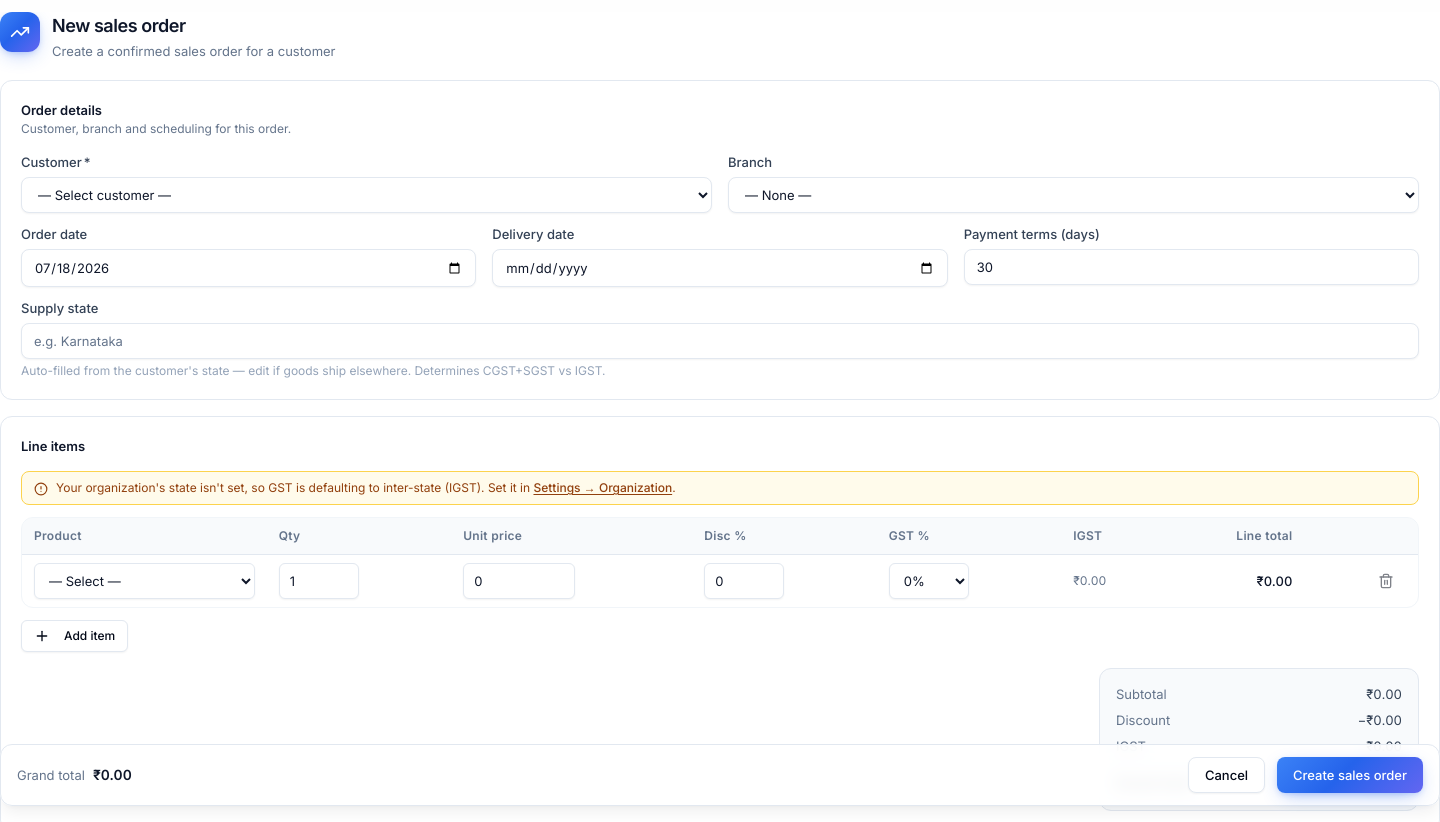
Test: SalesOrderForm › pre-fills price/GST and updates the grand total when a product is chosen (inter-state, IGST)
Select "Widget" in the dropdown named "Product for line 1". click: (144, 580)
box: left=34, top=562, right=255, bottom=598
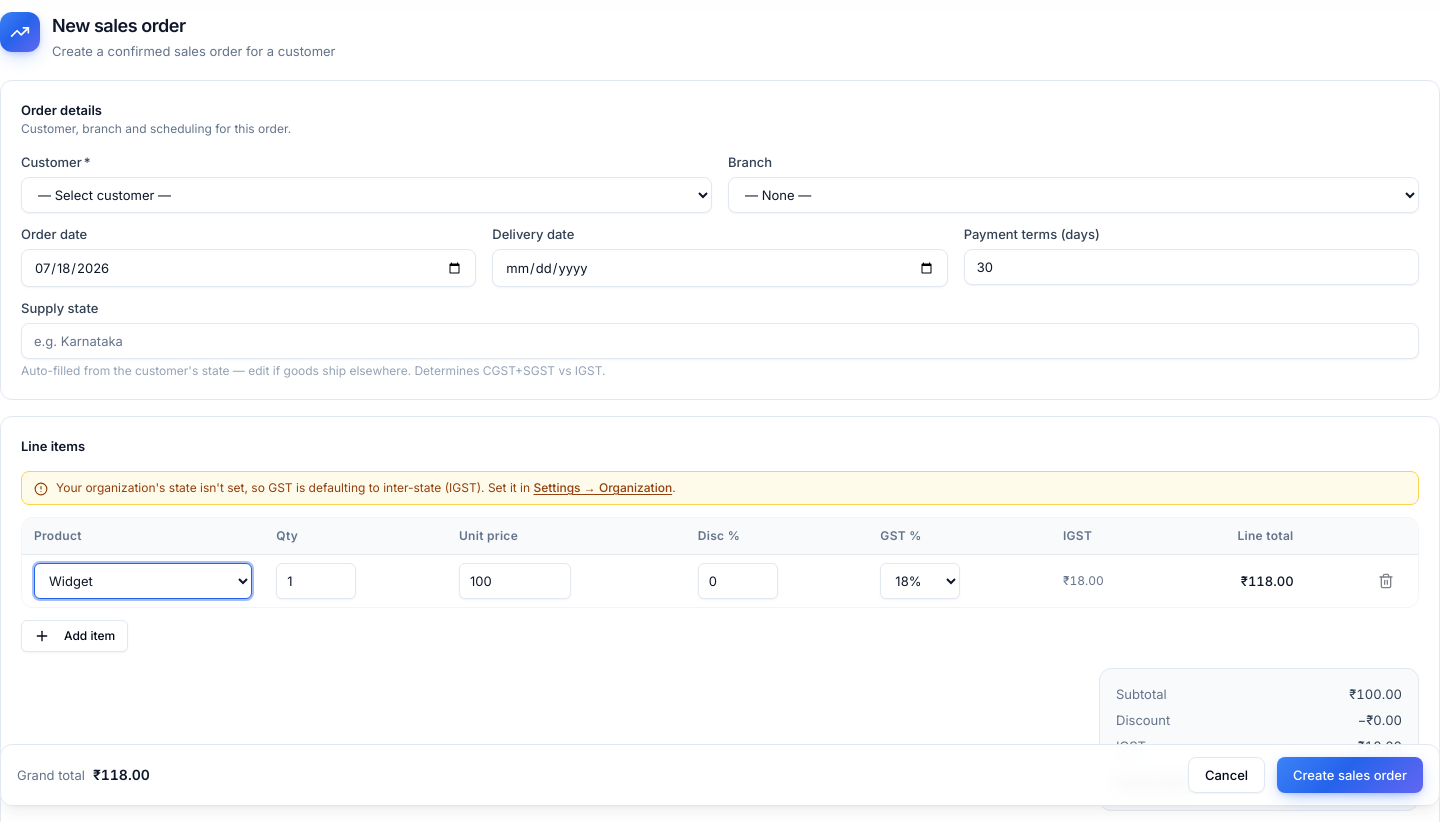
Expected: the number field named "Unit price for line 1" holds "100", left=459, top=562, right=571, bottom=598
Expected: the text "₹118.00" is shown, left=1165, top=554, right=1306, bottom=606
Clear the number field named "Quantity for line 1". click: (316, 580)
box: left=276, top=562, right=356, bottom=598
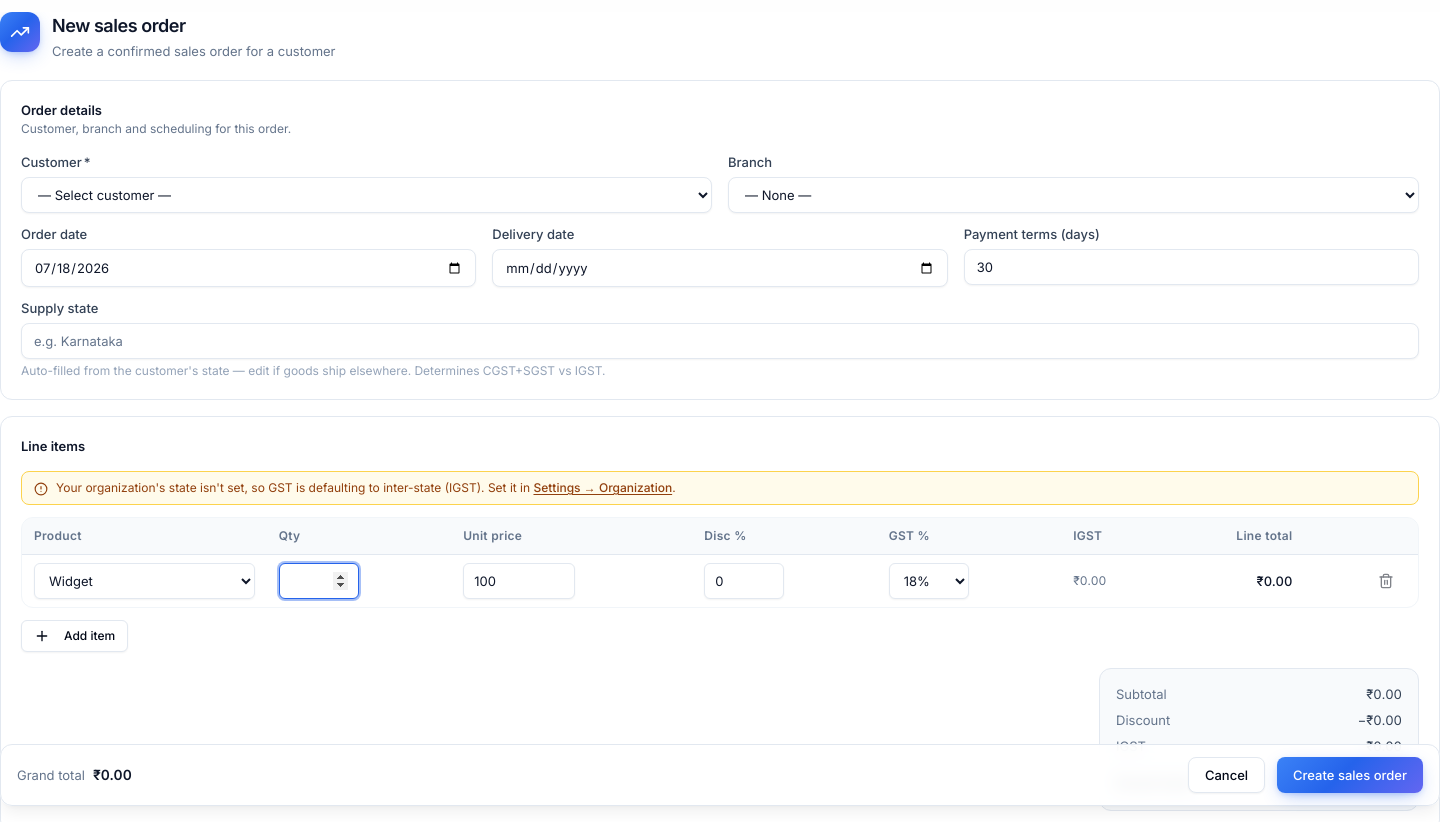
Type "2" into the number field named "Quantity for line 1". click: (319, 580)
box: left=279, top=562, right=359, bottom=598
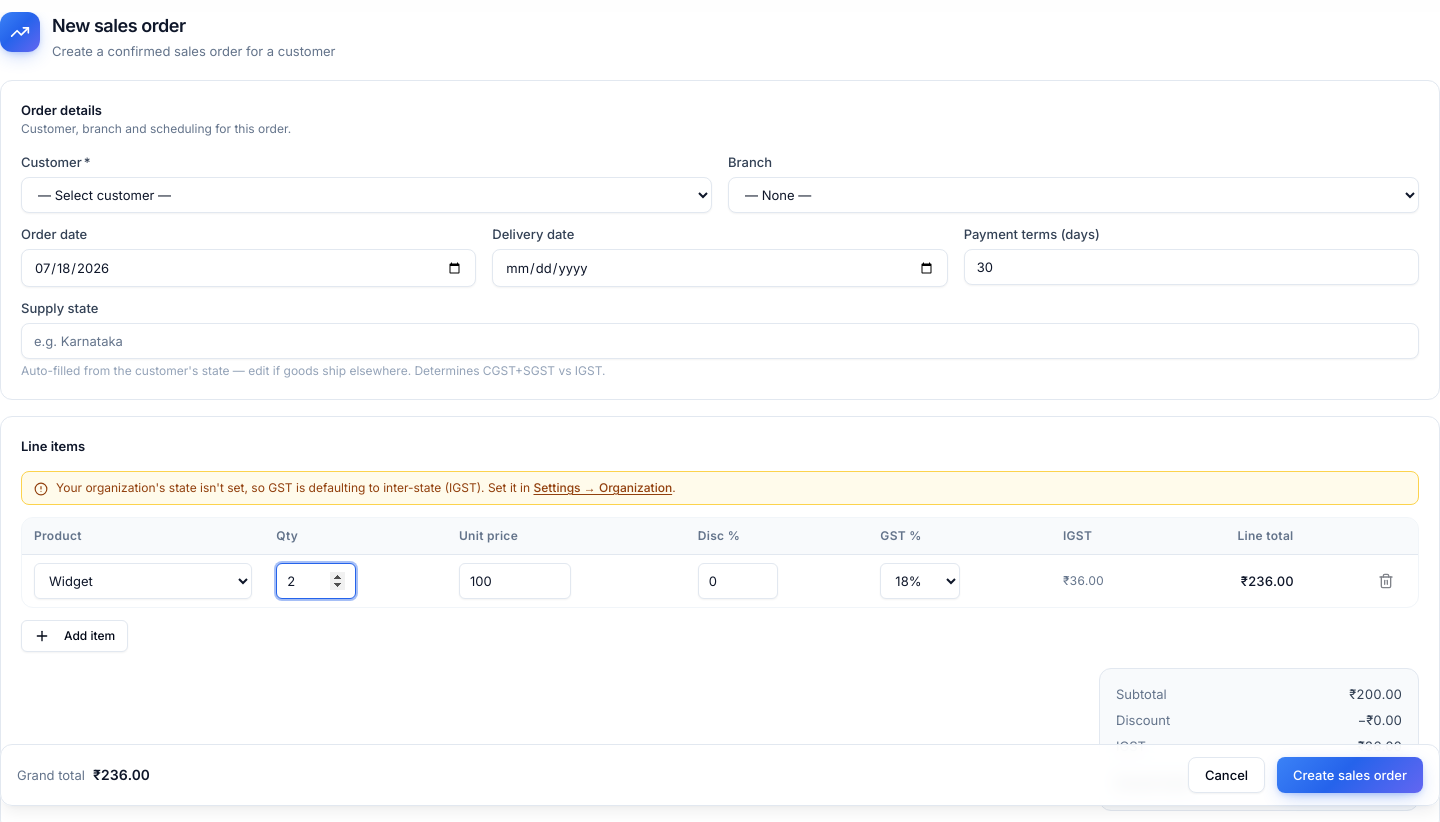
Expected: the text "₹236.00" is shown, left=1165, top=554, right=1306, bottom=606
